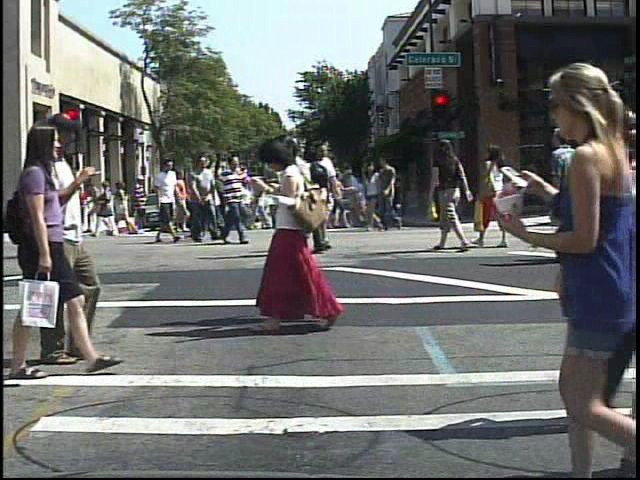person: (505, 52, 639, 479), (3, 111, 97, 384), (50, 108, 119, 370), (251, 135, 337, 335), (283, 130, 354, 329), (303, 150, 348, 261), (475, 142, 517, 256), (213, 151, 252, 246), (130, 172, 151, 240), (72, 182, 92, 233)
